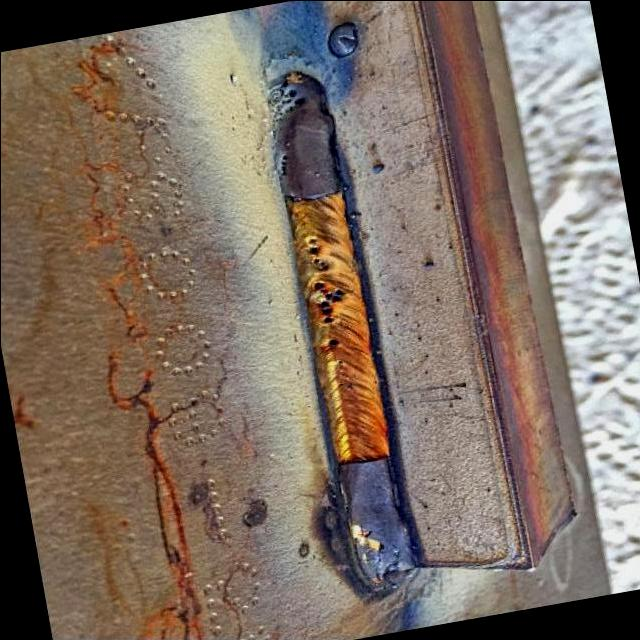defect: (311, 279, 354, 330), (272, 87, 306, 119), (303, 235, 329, 273), (272, 146, 294, 178), (323, 334, 341, 350)
